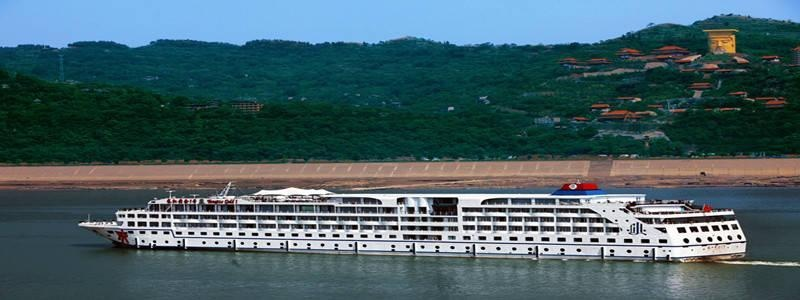youlun: (77, 172, 746, 257)
